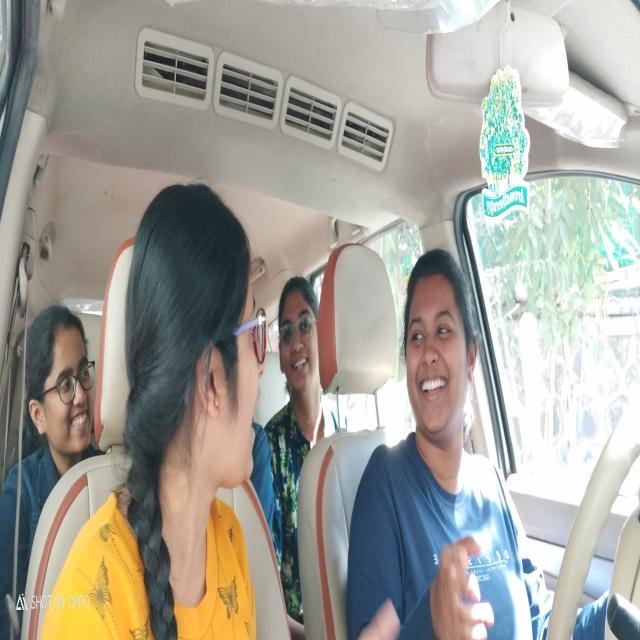LeftRight: (404, 238, 480, 446)
person: (128, 172, 268, 494), (22, 304, 96, 466), (276, 276, 322, 406)
talking: (418, 372, 452, 403), (250, 384, 262, 448)
